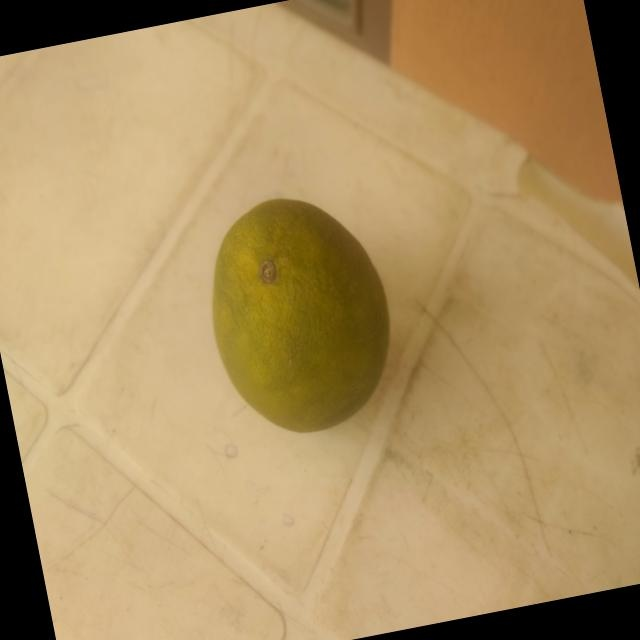agrume: (161, 128, 435, 480)
